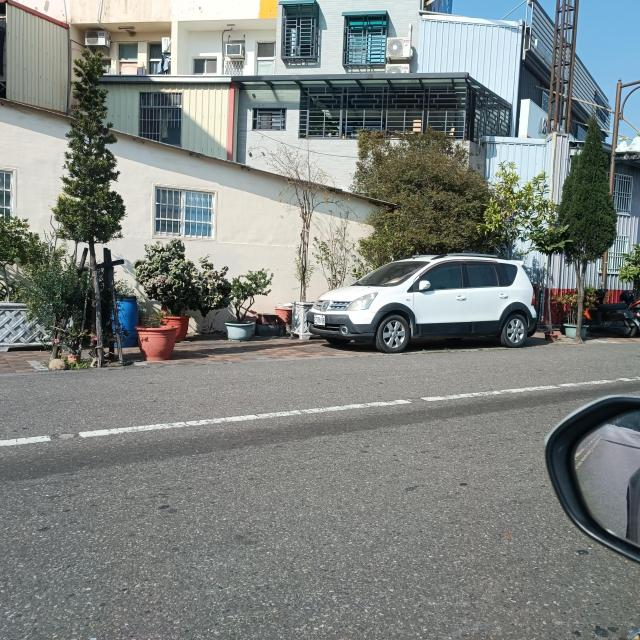W: (314, 315, 325, 325)
